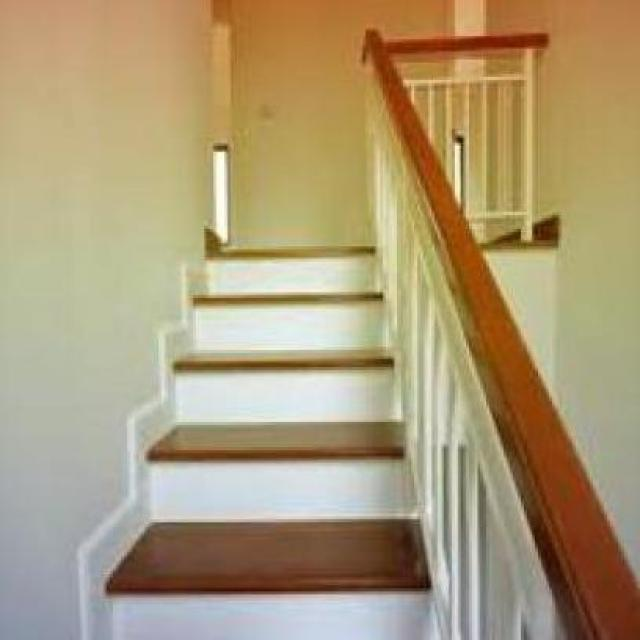Stairs: (105, 53, 539, 635)
